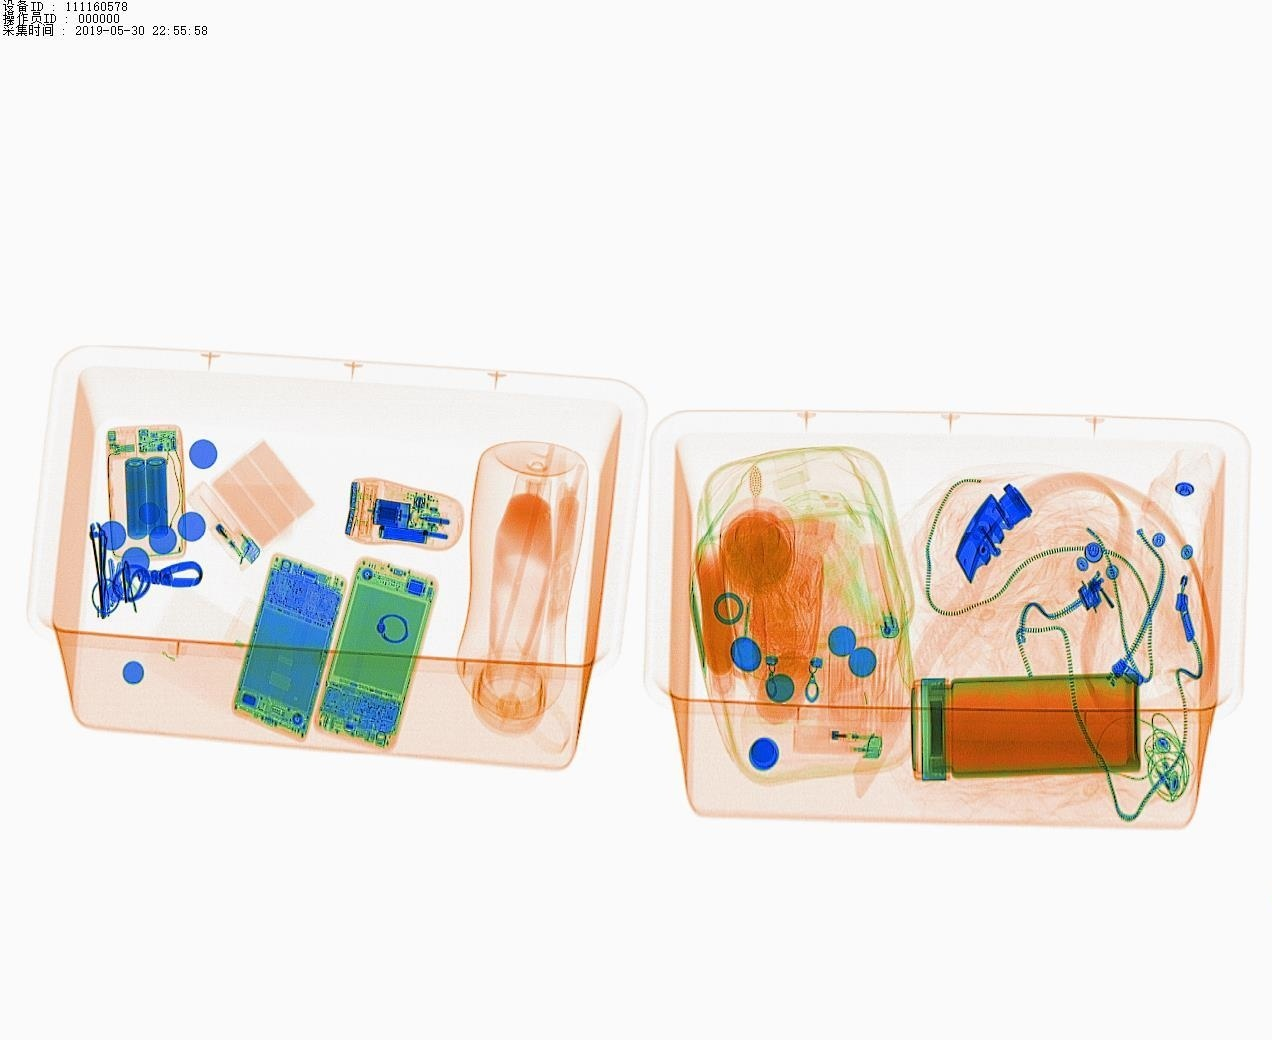NonmetallicFire: (848, 537, 919, 651), (189, 480, 269, 572), (788, 711, 904, 770)
